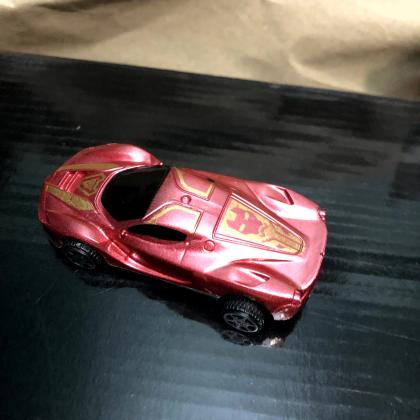Car: (38, 144, 328, 334)
